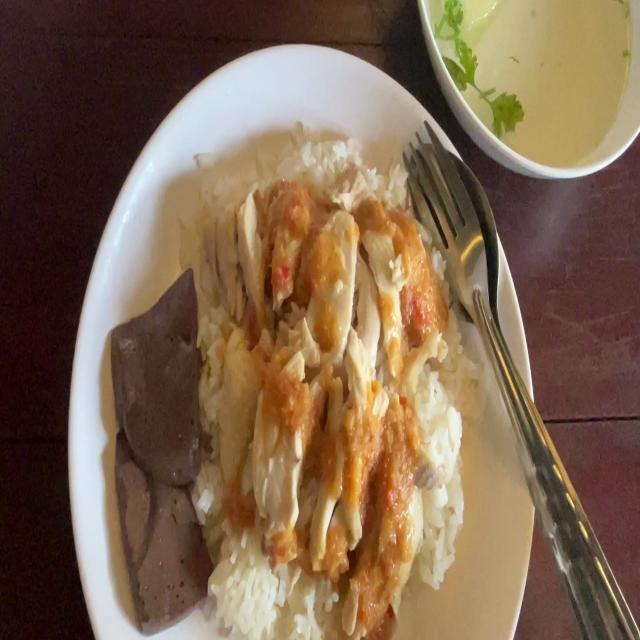boiled_chicken: (208, 192, 428, 581)
boiled_chicken_blood_jelly: (112, 266, 204, 477), (114, 422, 204, 606)
chicken_rice: (123, 139, 473, 640)
